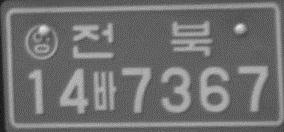1: (23, 67, 54, 115)
3: (159, 65, 191, 113)
4: (58, 67, 88, 113)
6: (199, 65, 231, 112)
7: (237, 64, 269, 112), (120, 65, 151, 113)
바: (92, 69, 117, 111)
영: (23, 23, 58, 61)
전북_D: (70, 19, 214, 61)
